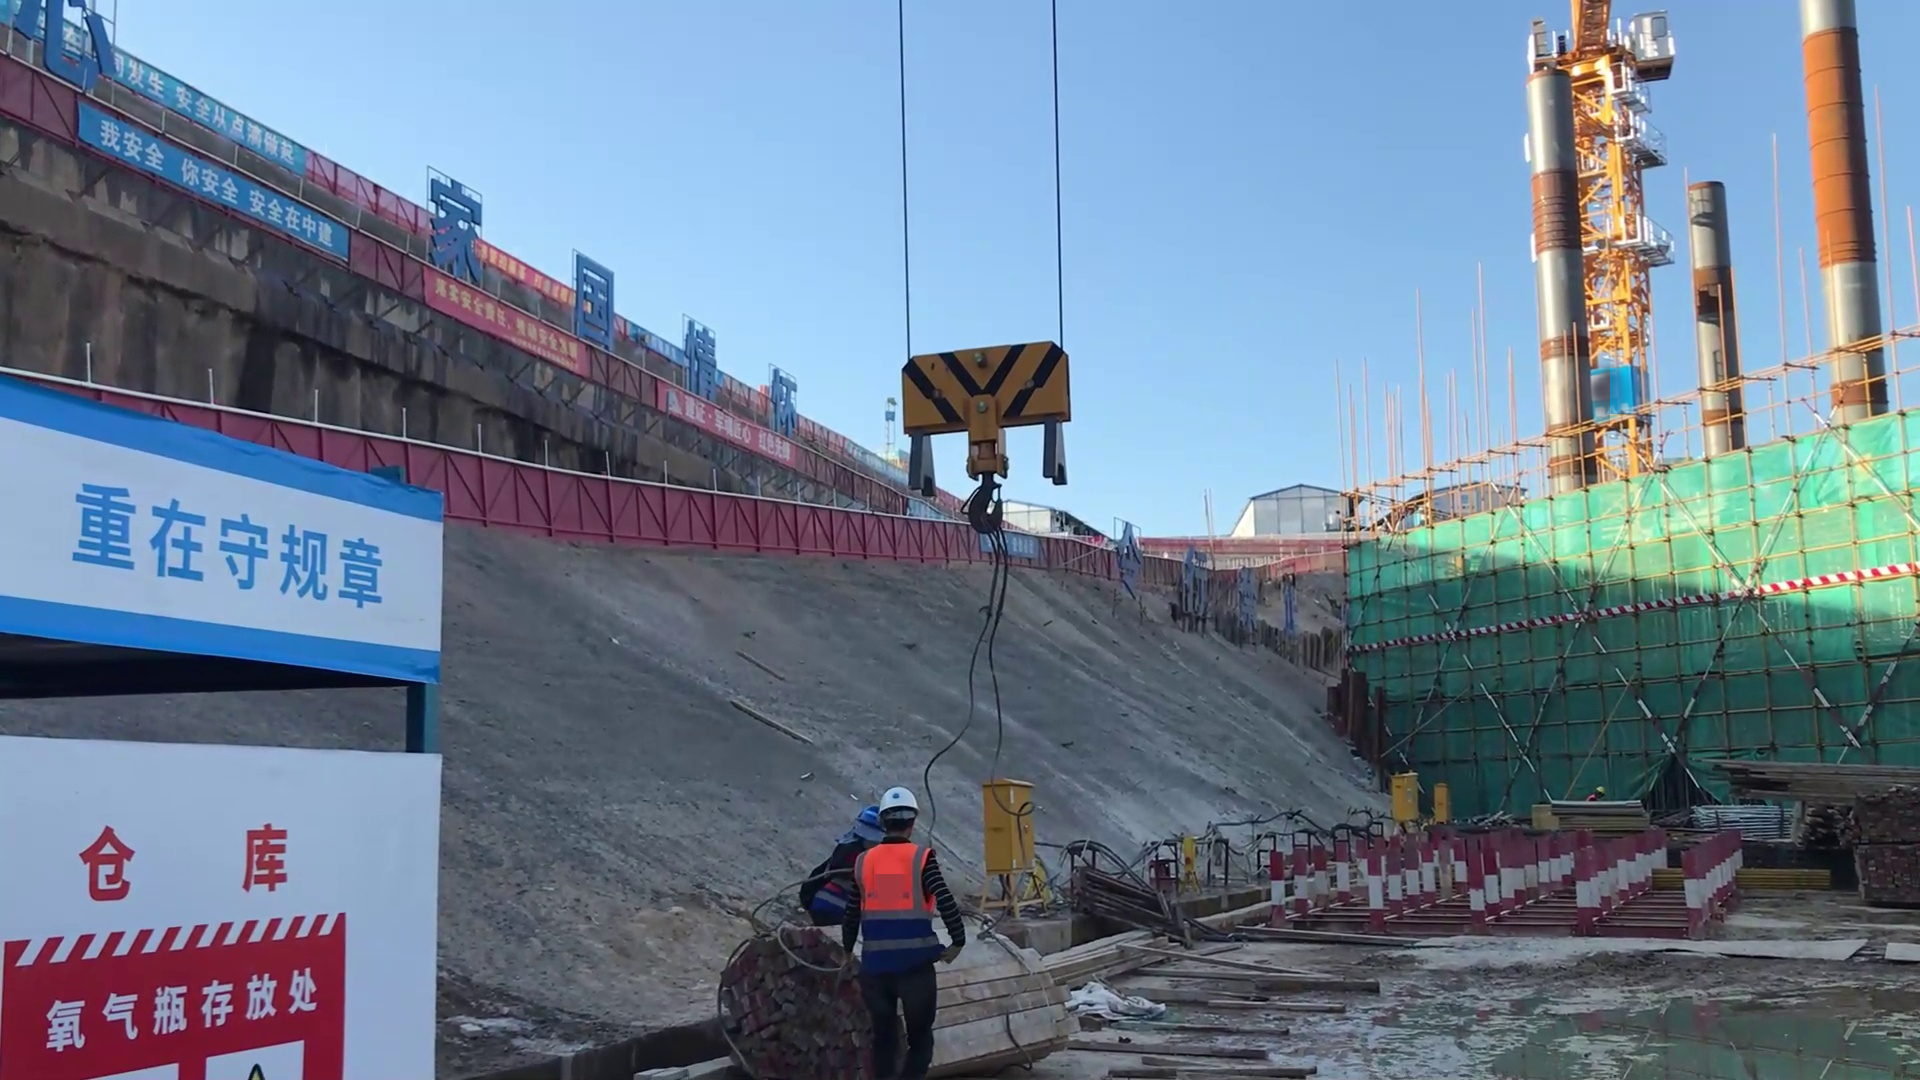ebox: (977, 771, 1052, 890), (1390, 770, 1418, 824), (1431, 782, 1449, 822)
fence: (443, 457, 780, 556), (778, 505, 982, 574)
helmet: (838, 804, 886, 858), (871, 790, 915, 833), (1596, 785, 1606, 794)
hook: (907, 337, 1071, 502)
person: (857, 786, 957, 1080), (1585, 783, 1607, 803)
slogan: (86, 31, 374, 242), (71, 108, 345, 327), (60, 486, 397, 626), (403, 270, 570, 427)
vest: (857, 841, 928, 926)
wood: (955, 918, 1091, 1080), (1723, 750, 1915, 815)
